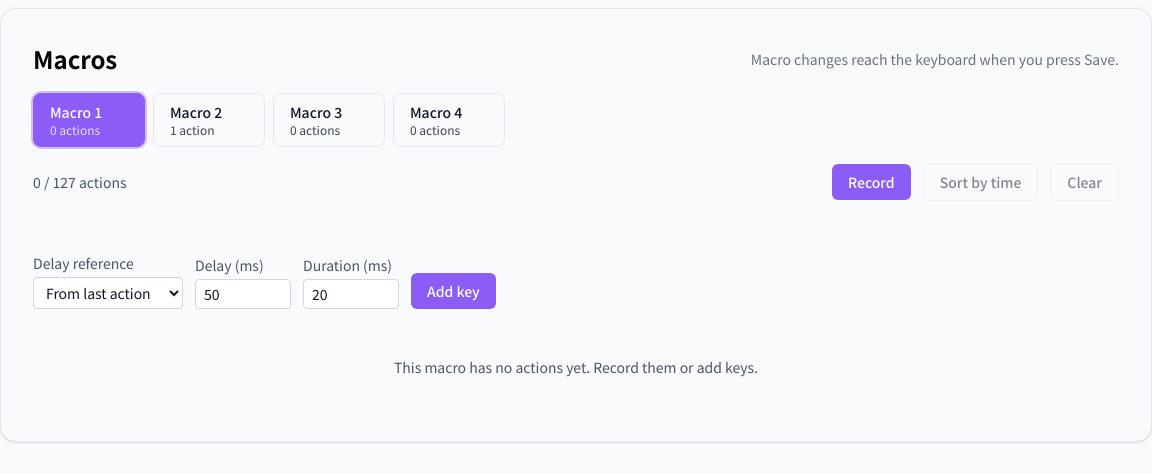
Test: MacrosPage (Trinity Pad) › shows the slots with their action counts and the chosen slot with its limit
Expected: the text "0 / 127 actions" is shown, [33,172,126,192]
Expected: the text "This macro has no actions yet. Record them or add keys." is shown, [394,357,758,377]
Step 1. Click the button "Macro 2 1 action" → (209, 120), box [153,93,265,147]
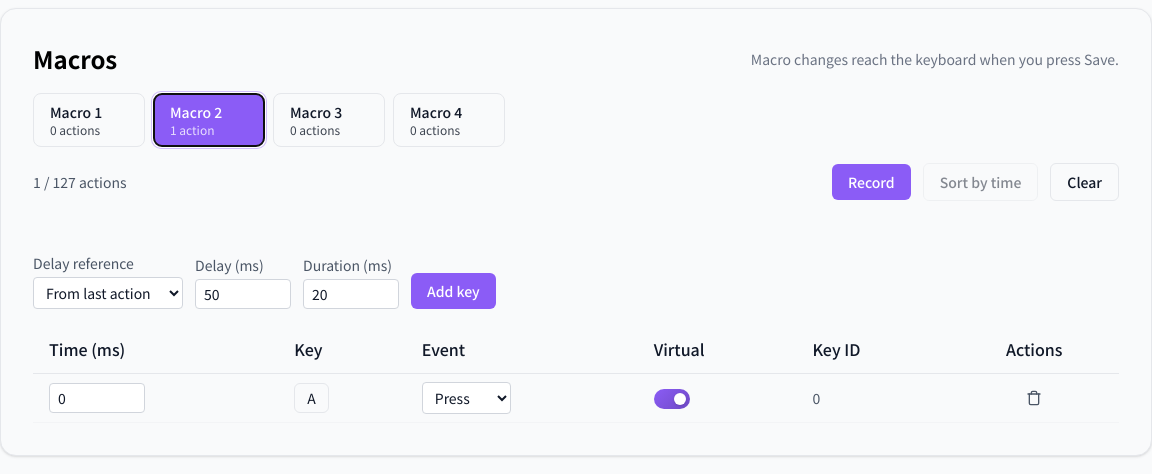
Expected: the text "1 / 127 actions" is shown, [33,172,126,192]
Expected: the table named "Macro 2" is shown, [33,325,1119,423]
